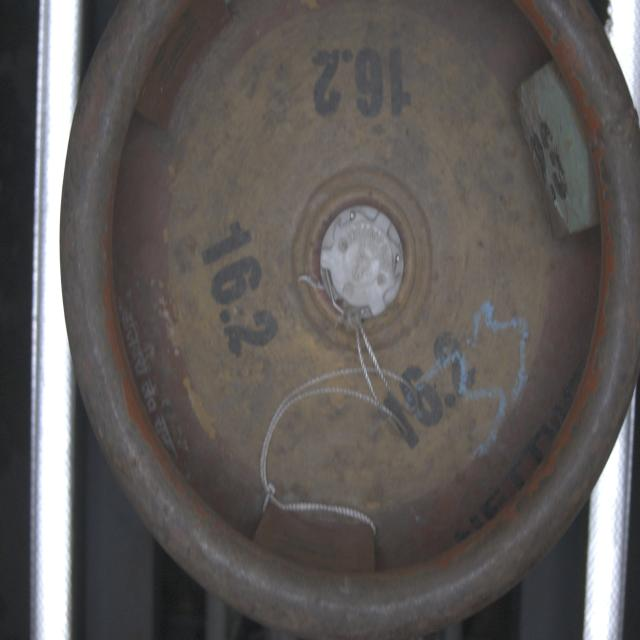Cap: (319, 204, 406, 324)
